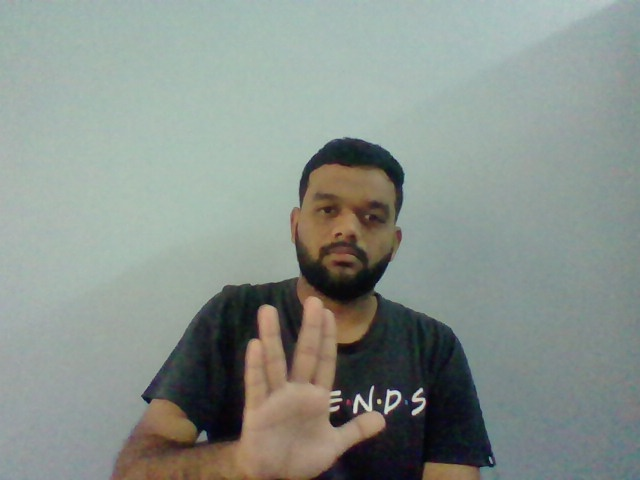Live long and prosper: (240, 295, 386, 480)
